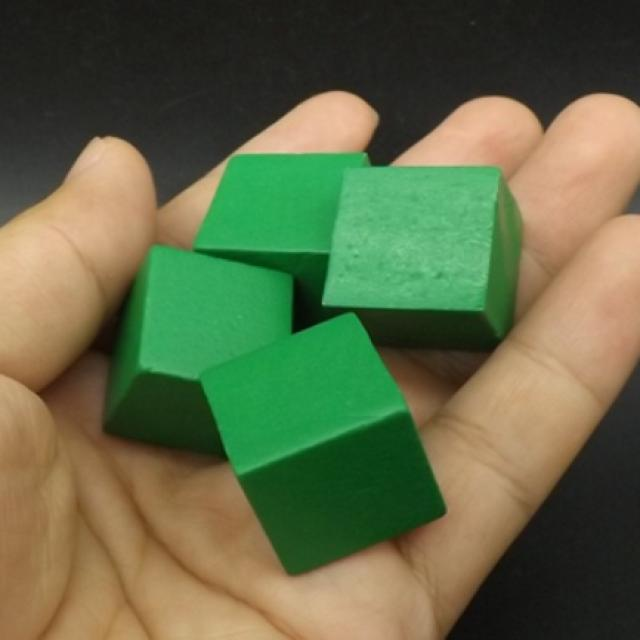green cube: (198, 314, 446, 577), (102, 245, 294, 459), (321, 165, 525, 350), (193, 152, 376, 335)
